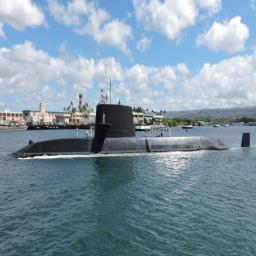submarine: (14, 105, 252, 163)
